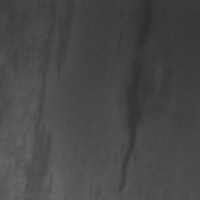inclusion: (22, 6, 75, 196), (111, 16, 163, 195), (0, 35, 28, 142)
